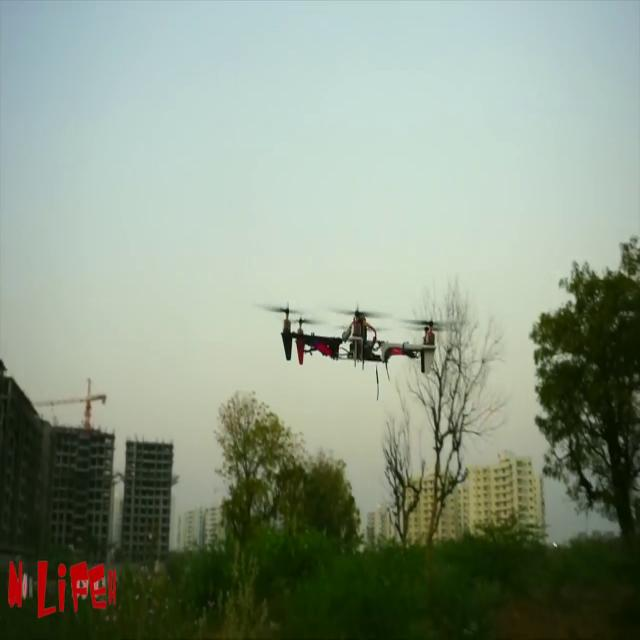drone: (246, 304, 461, 396)
